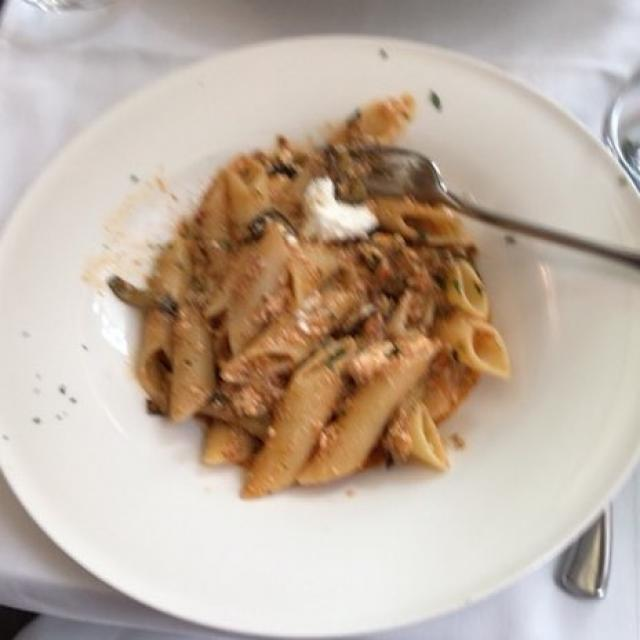pasta: (111, 111, 499, 474)
